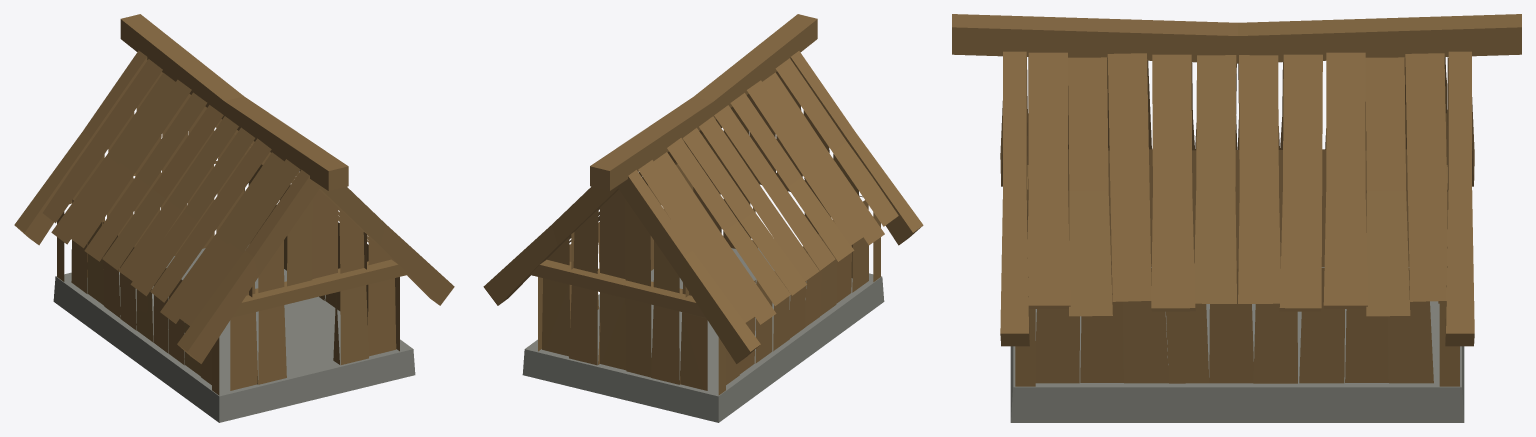
File: hus_lod1.glb
The picture shows the model from 3 angles, left to right: view 1: azimuth 30°, elevation 25°; view 2: azimuth 150°, elevation 25°; view 3: azimuth 270°, elevation 25°; orthographic projection. The views are drawn at different scales.
Visible parts, largest first — view 1: Houses_FirstAge_1_Level3; view 2: Houses_FirstAge_1_Level3; view 3: Houses_FirstAge_1_Level3.
Part boxes in pixels (left/top/right/bottom): Houses_FirstAge_1_Level3: left=14, top=14, right=454, bottom=422; Houses_FirstAge_1_Level3: left=483, top=14, right=923, bottom=422; Houses_FirstAge_1_Level3: left=952, top=14, right=1521, bottom=422.
Bounding box in the file's own units: 9.1 × 8 × 12.27.
